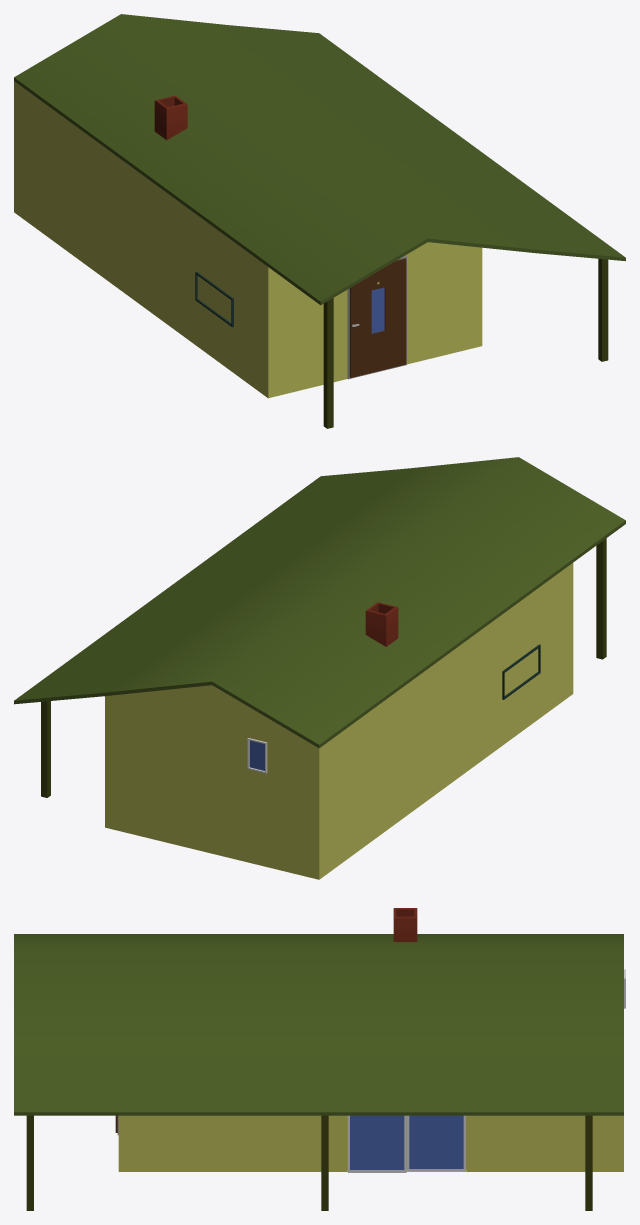
Rendered from casa.FBX.
3 renders of one model, top to bottom at view 1: azimuth 30°, elevation 25°; view 2: azimuth 150°, elevation 25°; view 3: azimuth 270°, elevation 25°, orthographic.
Visible parts, largest first — view 1: Box065; view 2: Box065; view 3: Box065.
Part boxes in pixels (bbox=[...]): Box065: bbox=[14, 14, 625, 428]; Box065: bbox=[14, 457, 625, 879]; Box065: bbox=[14, 908, 625, 1210].
Bounding box in the file's own units: 95.44 × 53.24 × 166.
